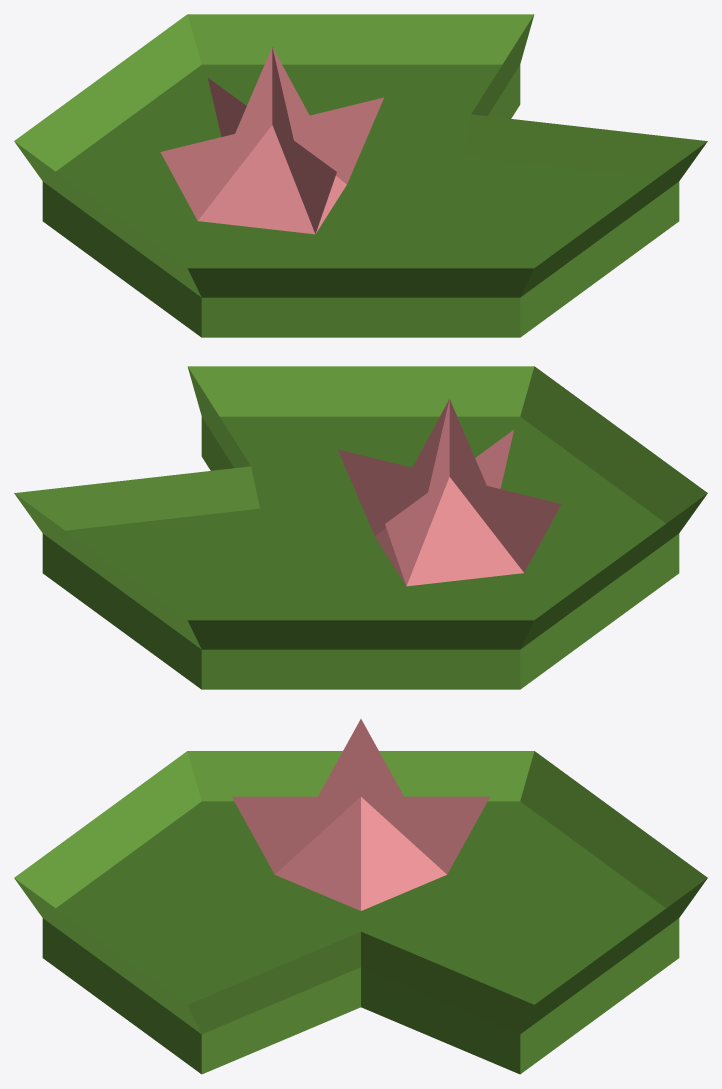
Rendered from lily_large.glb.
3 views of the same model, one above another, from view 1: azimuth 30°, elevation 25°; view 2: azimuth 150°, elevation 25°; view 3: azimuth 270°, elevation 25° (orthographic).
Visible parts, largest first — view 1: lily_large; view 2: lily_large; view 3: lily_large.
Part boxes in pixels (<box>): lily_large: <box>14,14,707,337</box>; lily_large: <box>14,366,707,689</box>; lily_large: <box>14,719,707,1074</box>.
Size of the model in its own units: 0.2719 by 0.098 by 0.3139.
